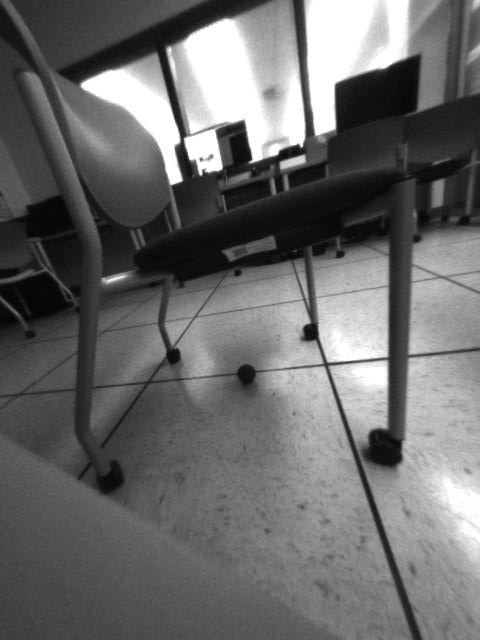dogtoy: (229, 358, 266, 390)
